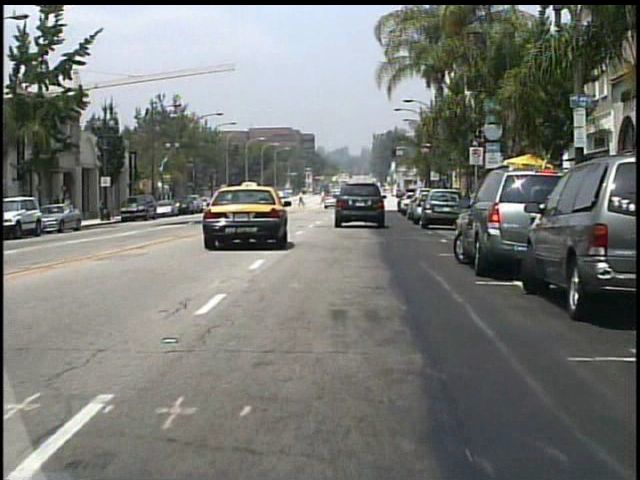person: (51, 191, 66, 224), (65, 192, 76, 222), (319, 189, 327, 208), (298, 190, 306, 208)
